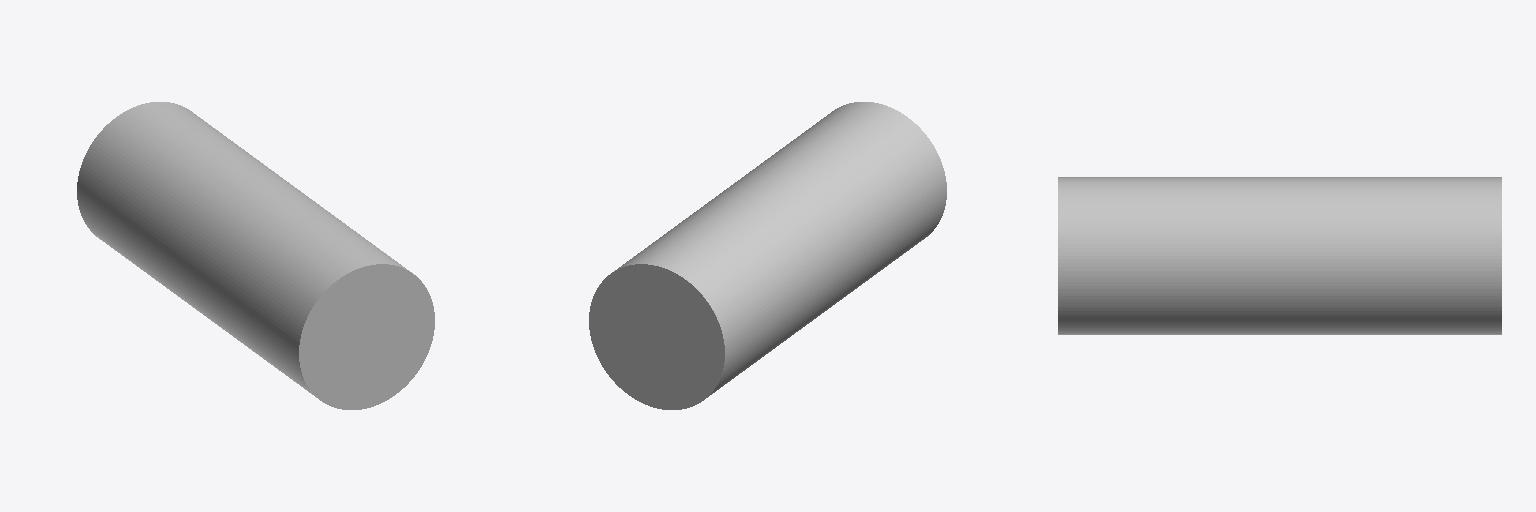
File: Circle_cube_cap.obj
3 views of the same model, side by side, from view 1: azimuth 30°, elevation 25°; view 2: azimuth 150°, elevation 25°; view 3: azimuth 270°, elevation 25° (orthographic).
Visible parts, largest first — view 1: Cylinder; view 2: Cylinder; view 3: Cylinder.
Part boxes in pixels (left/top/right/bottom): Cylinder: left=77, top=102, right=434, bottom=409; Cylinder: left=589, top=102, right=946, bottom=409; Cylinder: left=1058, top=177, right=1501, bottom=334.
Size of the model in its own units: 0.0351 by 0.0351 by 0.0992.